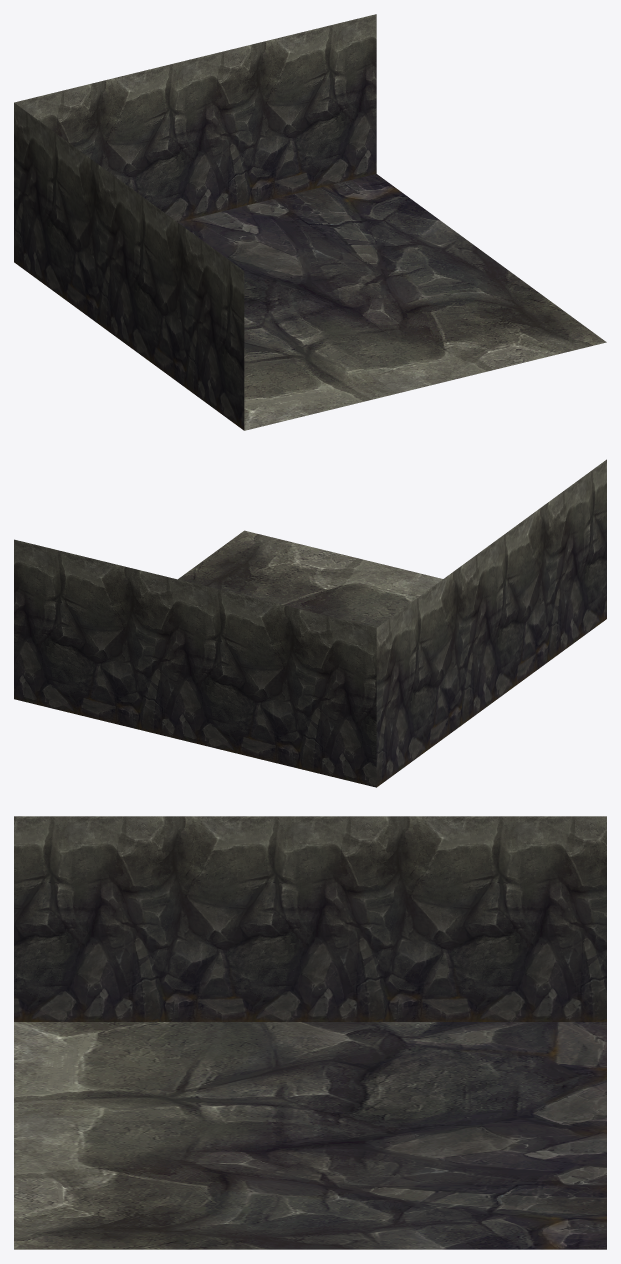
File: common_underground_shitoubeijing.FBX
3 renders of one model, top to bottom at view 1: azimuth 30°, elevation 25°; view 2: azimuth 150°, elevation 25°; view 3: azimuth 270°, elevation 25°, orthographic. The views are drawn at different scales.
Parts seen in each view (by area): view 1: common_underground_shitoubeijing; view 2: common_underground_shitoubeijing; view 3: common_underground_shitoubeijing.
Part boxes in pixels (x1=…): common_underground_shitoubeijing: x1=14, y1=14, x2=606, y2=430; common_underground_shitoubeijing: x1=14, y1=459, x2=606, y2=787; common_underground_shitoubeijing: x1=14, y1=816, x2=606, y2=1249.
Size of the model in its own units: 187 by 78.51 by 205.
